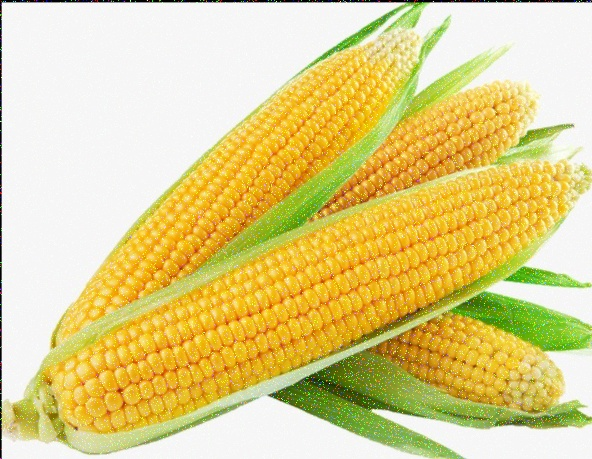corn: (43, 154, 583, 434), (60, 15, 419, 341)
